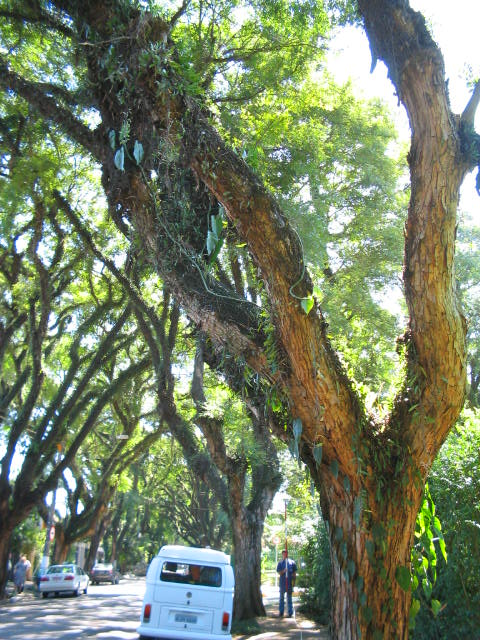stem: (220, 518, 273, 618)
stick: (279, 503, 294, 618)
